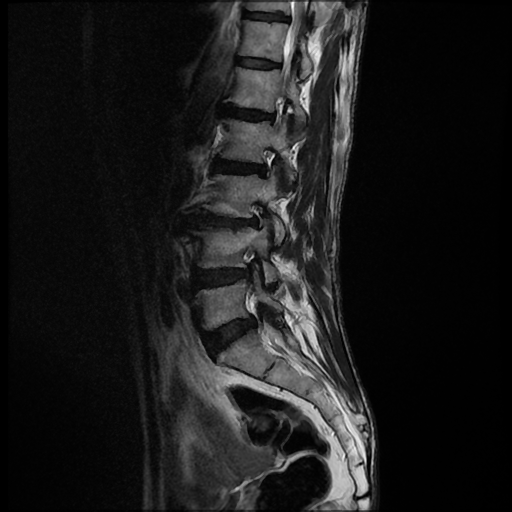LFS2: (246, 137, 287, 194)
LFS3: (235, 194, 276, 239)
